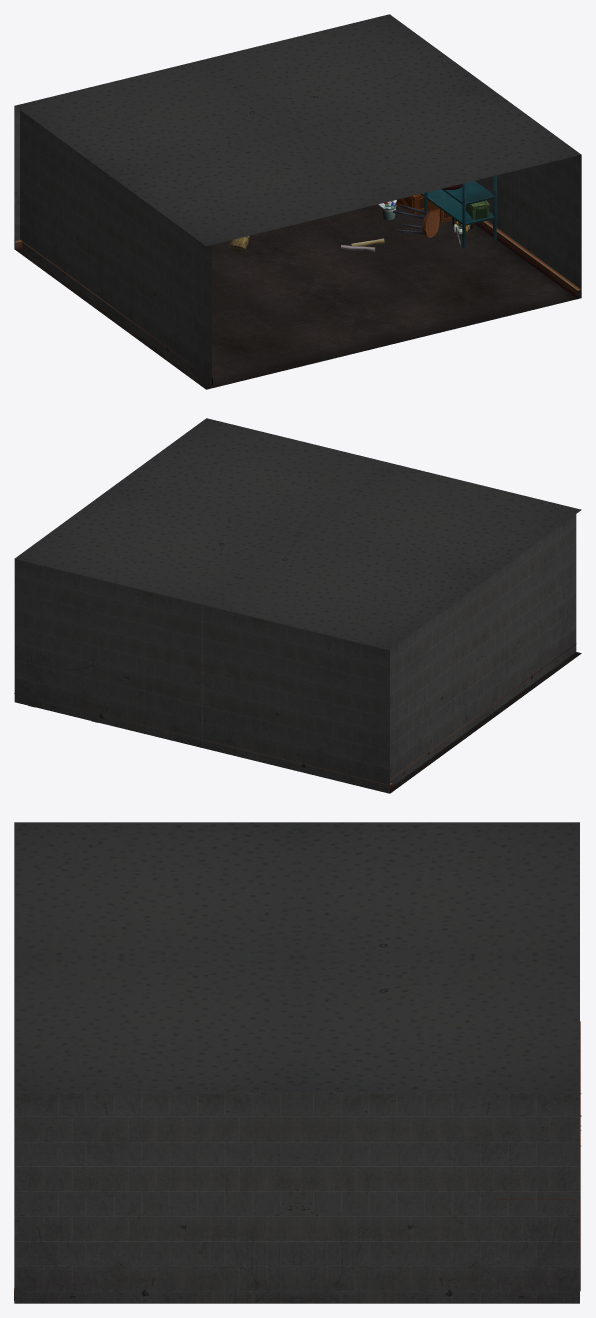
File: ChuCangShi_01.FBX
3 renders of one model, top to bottom at view 1: azimuth 30°, elevation 25°; view 2: azimuth 150°, elevation 25°; view 3: azimuth 270°, elevation 25°, orthographic. The views are drawn at different scales.
Parts seen in each view (by area): view 1: ChuCangShi_01_dati_01, Object001, ChuCangShi_01_dati_02; view 2: ChuCangShi_01_dati_01, Object001; view 3: Object001, ChuCangShi_01_dati_01.
Boxes of the visible parts, <box> form: ChuCangShi_01_dati_01: <box>14,95,581,389</box>; Object001: <box>14,14,580,246</box>; ChuCangShi_01_dati_02: <box>335,175,496,248</box>; ChuCangShi_01_dati_01: <box>14,514,581,793</box>; Object001: <box>15,418,581,650</box>; Object001: <box>14,822,579,1092</box>; ChuCangShi_01_dati_01: <box>14,943,580,1303</box>.
Bounding box in the file's own units: 4492 × 1671 × 3989.
